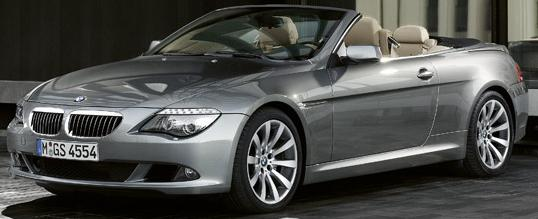front_view: (7, 94, 248, 187)
headlight: (136, 102, 223, 142)
